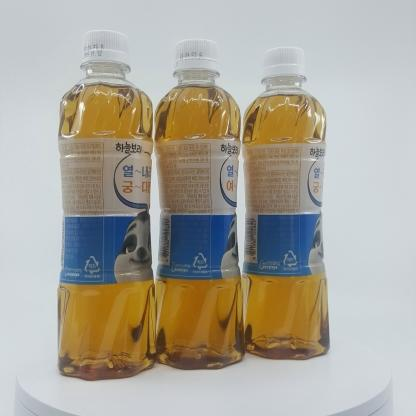------500ML: (57, 30, 156, 380), (153, 38, 245, 370), (241, 47, 330, 359)
